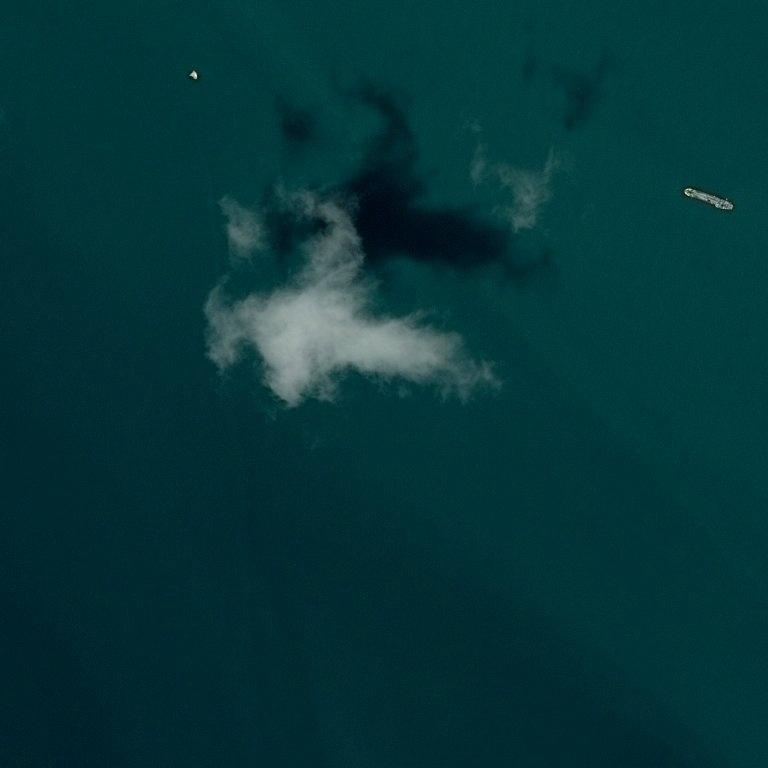ship: (683, 186, 735, 211), (684, 190, 687, 192), (732, 204, 733, 206), (730, 54, 731, 55)
